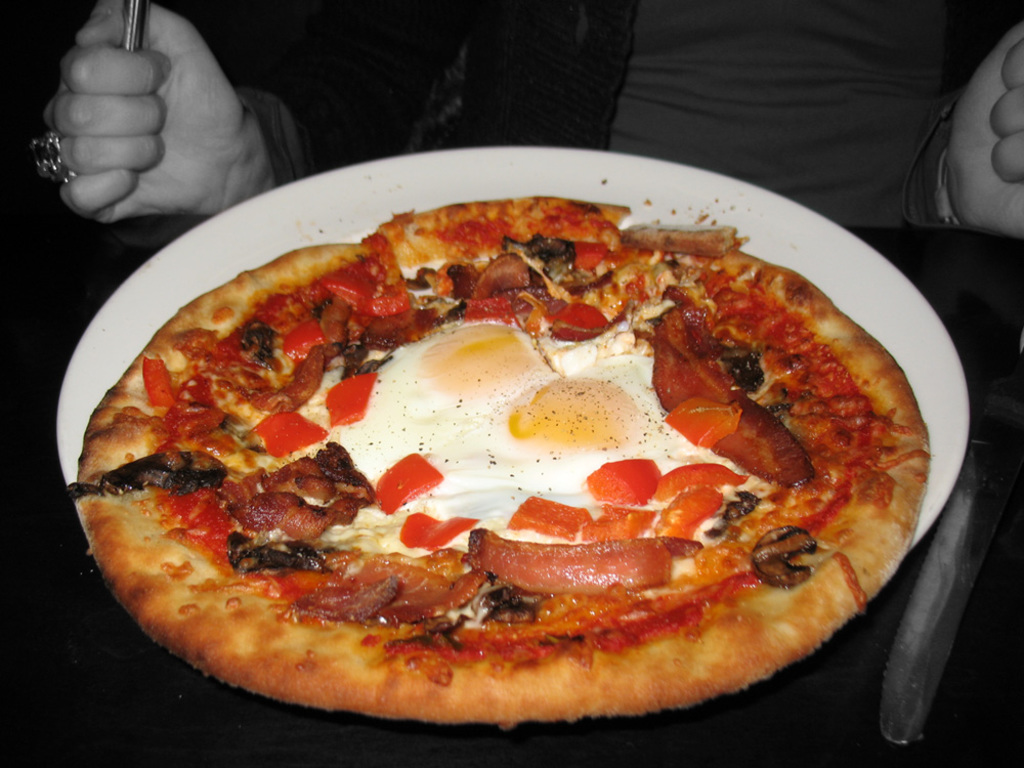Pizza: (107, 177, 962, 715)
